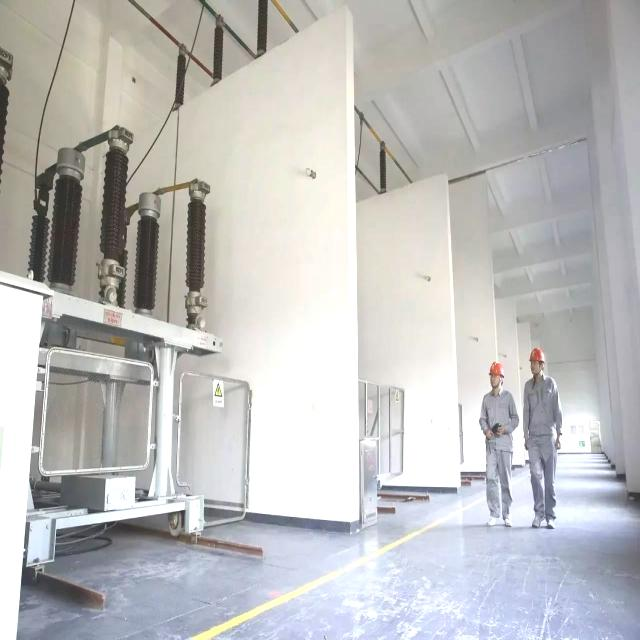hand_noglove: (495, 422, 507, 441), (483, 430, 495, 443)
head_helmet: (487, 360, 505, 378), (528, 347, 545, 362)
person: (522, 344, 564, 530), (480, 359, 518, 529)
shoes: (544, 511, 558, 532), (530, 511, 544, 531), (500, 511, 514, 526), (486, 514, 496, 528)
